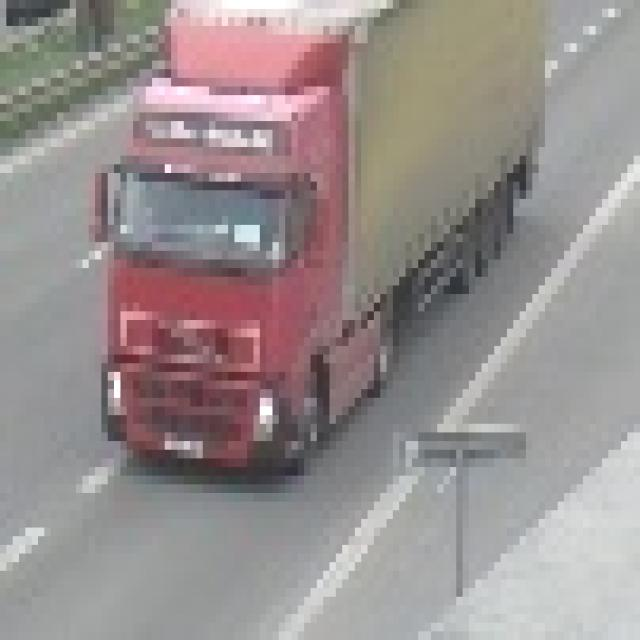TRUCK: (95, 0, 542, 473)
